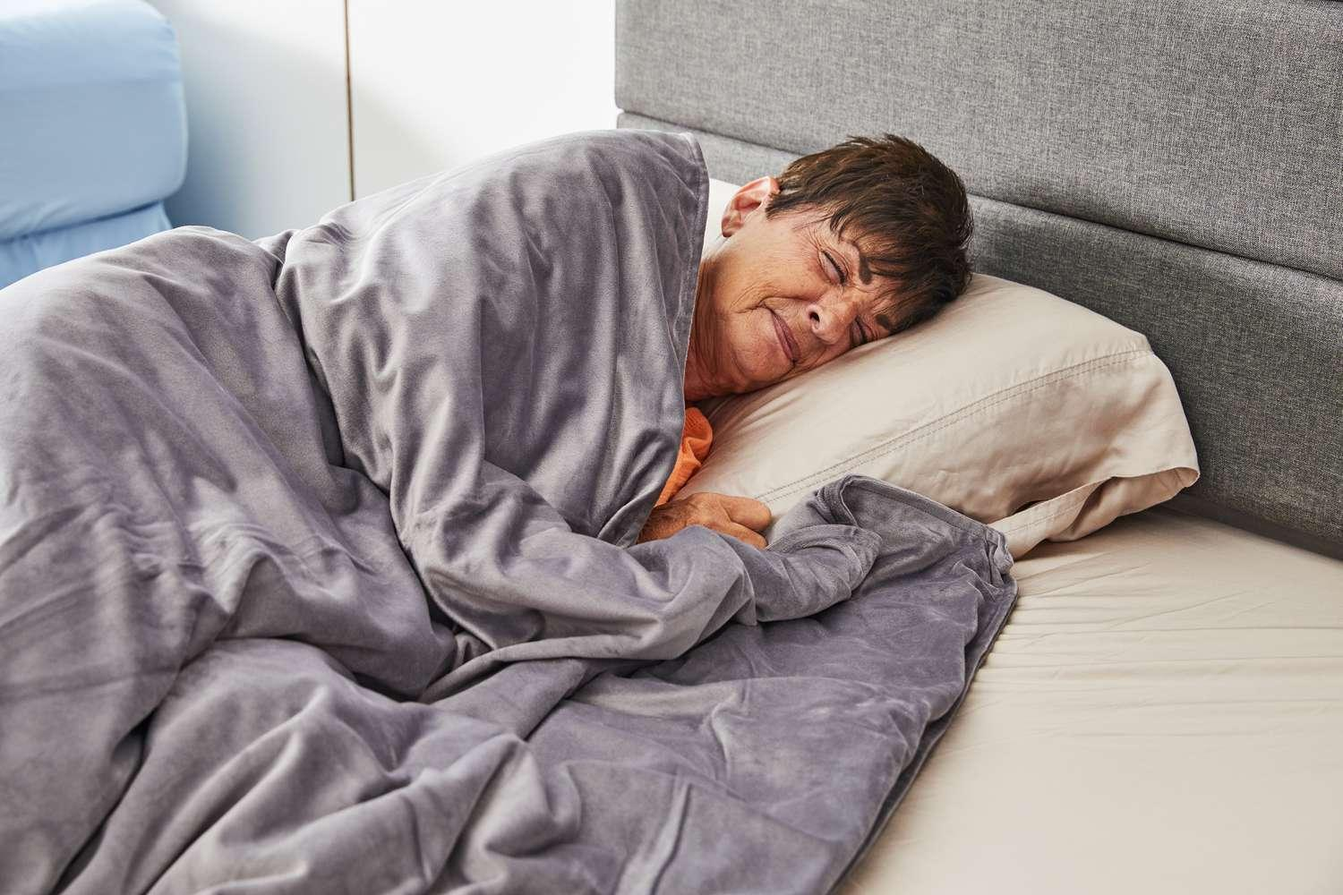blanket: (0, 124, 1024, 895)
